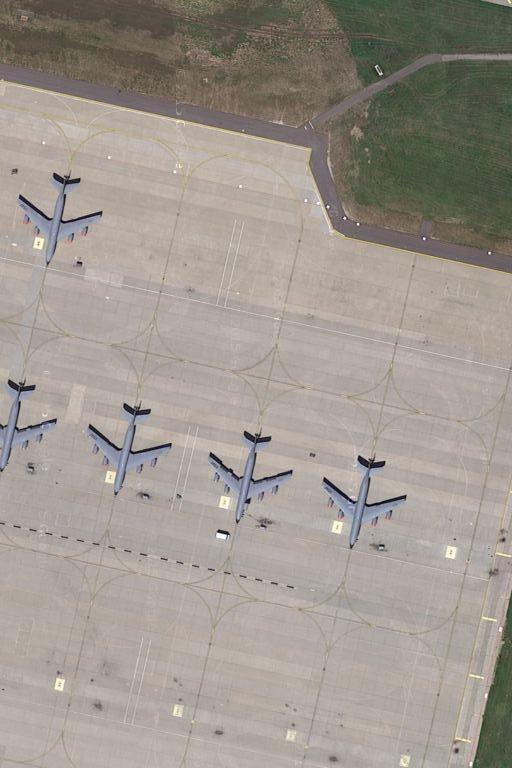KC-135: (318, 452, 412, 548), (84, 401, 176, 497), (16, 168, 105, 267), (207, 426, 297, 522), (1, 381, 59, 477)
